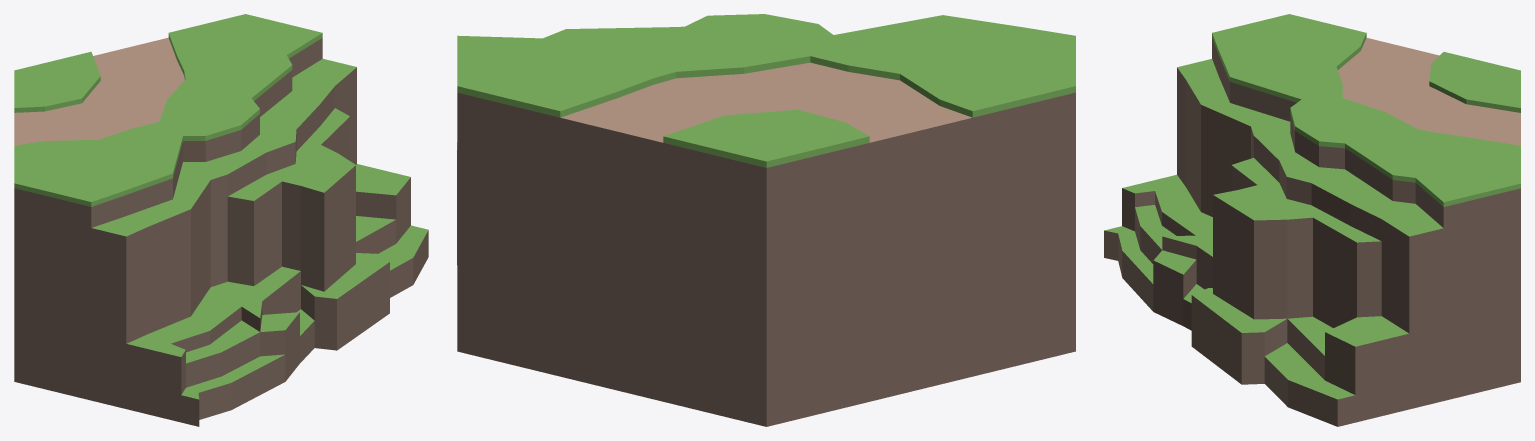
Rendered from tile_Cliff02.fbx.
3 views of the same model, side by side, from view 1: azimuth 30°, elevation 25°; view 2: azimuth 150°, elevation 25°; view 3: azimuth 270°, elevation 25° (orthographic). The views are drawn at different scales.
Parts seen in each view (by area): view 1: Tile_Road7; view 2: Tile_Road7; view 3: Tile_Road7.
Part boxes in pixels (x1,y1,x2,y2): Tile_Road7: (14,14,428,426); Tile_Road7: (457,14,1075,426); Tile_Road7: (1104,14,1520,426).
Size of the model in its own units: 1.9 by 0.82 by 1.56.
